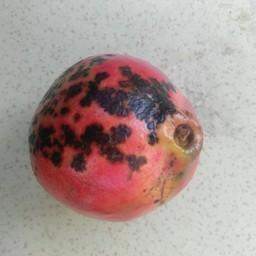Bad_pomegranate: (26, 43, 204, 224)
